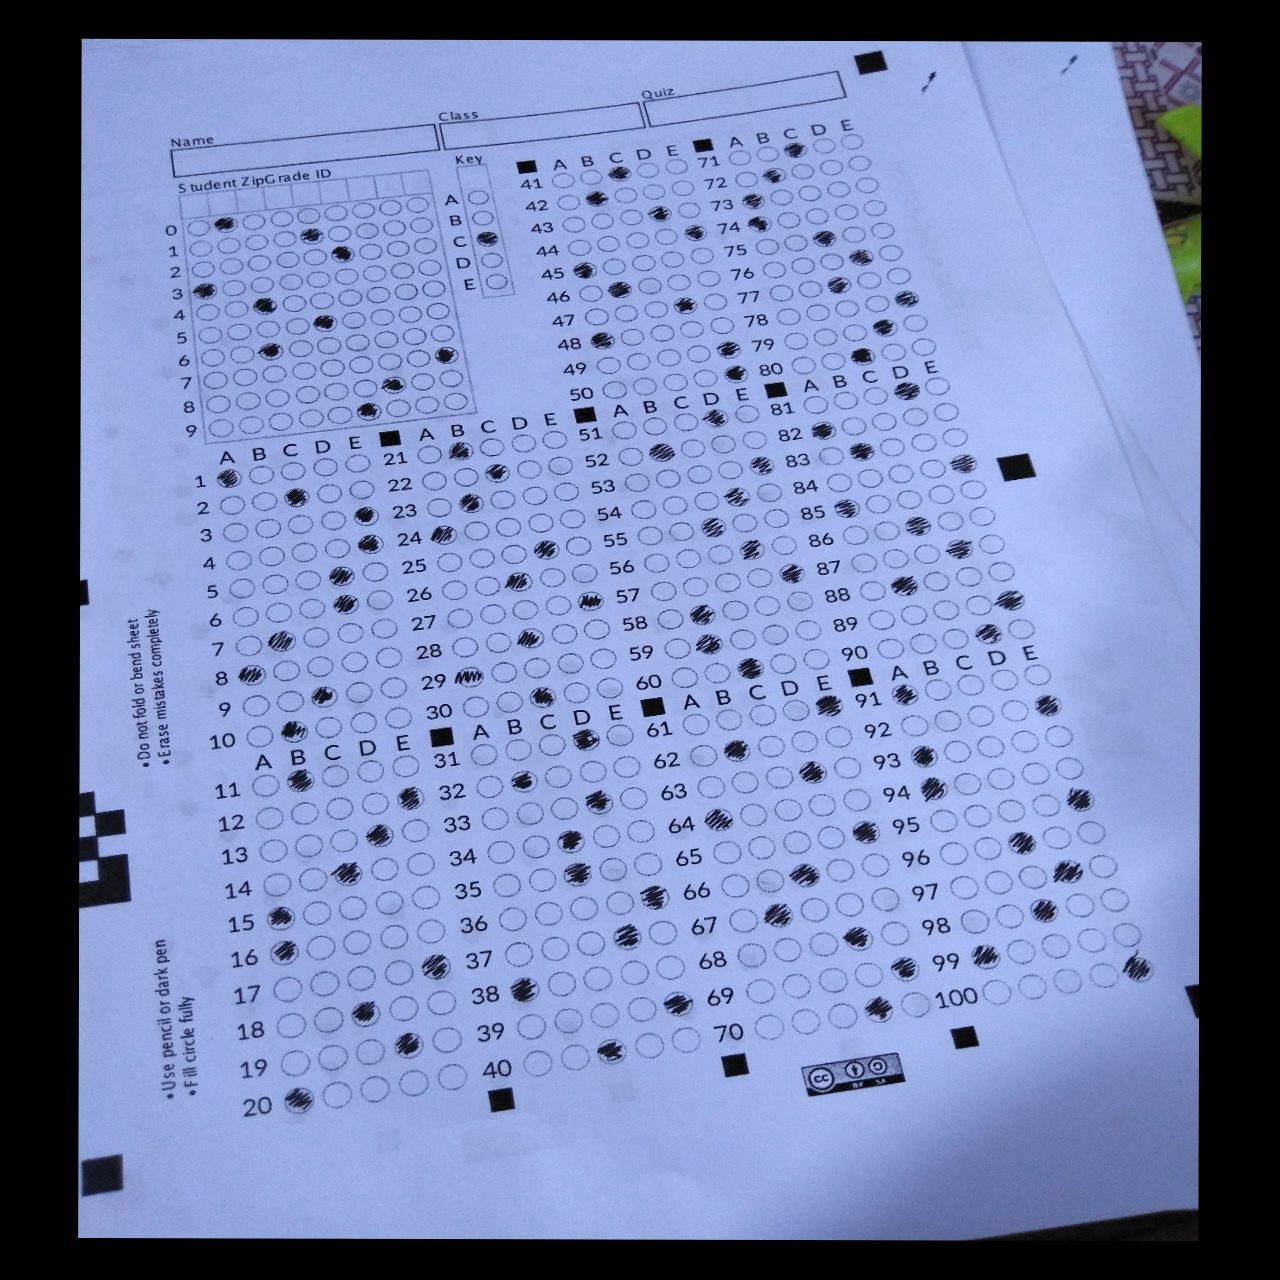not-c: (1073, 926, 1111, 956), (896, 990, 934, 1020), (1095, 884, 1133, 913), (1005, 937, 1043, 966), (745, 1012, 784, 1041), (1111, 919, 1148, 949), (976, 978, 1013, 1008), (523, 866, 560, 896), (427, 1024, 464, 1054), (270, 974, 307, 1003), (812, 965, 850, 994), (851, 958, 888, 987), (1083, 961, 1121, 990), (1048, 967, 1085, 996), (1012, 972, 1049, 1001), (785, 1008, 823, 1037), (741, 976, 779, 1005), (542, 764, 578, 794), (501, 939, 537, 968), (395, 1069, 431, 1098), (300, 899, 336, 928), (958, 907, 994, 937), (1035, 932, 1071, 961), (742, 832, 778, 862), (434, 1063, 471, 1091), (380, 958, 417, 986), (629, 1030, 667, 1058), (625, 995, 662, 1023), (338, 930, 375, 958), (731, 942, 769, 971), (776, 971, 813, 999), (822, 856, 859, 884), (495, 906, 531, 934), (823, 1002, 859, 1030), (409, 883, 445, 911), (624, 816, 660, 844), (546, 794, 583, 822), (566, 894, 602, 922), (532, 899, 568, 927), (544, 969, 580, 998), (312, 1005, 348, 1033), (275, 1049, 312, 1077), (320, 1081, 356, 1109), (382, 994, 418, 1022), (370, 888, 407, 917), (424, 989, 461, 1017), (647, 919, 683, 947), (668, 1024, 704, 1053), (586, 1001, 622, 1029), (302, 934, 339, 962), (1063, 892, 1099, 920), (735, 799, 771, 828), (770, 795, 806, 823), (797, 894, 833, 922), (879, 919, 915, 947), (857, 850, 893, 878), (1020, 661, 1056, 689), (550, 1007, 587, 1034), (358, 1076, 395, 1103), (1073, 821, 1110, 847), (992, 903, 1029, 930), (930, 839, 967, 866), (945, 874, 982, 901), (595, 855, 631, 883), (519, 833, 554, 862), (520, 1048, 556, 1076), (376, 924, 411, 952), (615, 958, 651, 986), (813, 824, 849, 852), (805, 789, 840, 817), (631, 850, 667, 877), (588, 823, 625, 850), (579, 965, 615, 992), (574, 930, 611, 956), (556, 1044, 592, 1071), (537, 937, 573, 964), (305, 969, 341, 996), (345, 964, 381, 990), (273, 1010, 309, 1037), (353, 1039, 389, 1065), (655, 955, 692, 982), (334, 896, 370, 922), (831, 891, 867, 918), (869, 885, 905, 912), (724, 906, 761, 933), (990, 797, 1027, 824), (981, 869, 1017, 896), (926, 808, 962, 835), (1039, 824, 1076, 850), (706, 840, 743, 866), (1085, 853, 1123, 879), (1014, 865, 1051, 891), (967, 835, 1005, 860), (749, 869, 787, 894), (617, 785, 652, 812), (515, 1012, 550, 1039), (316, 1044, 352, 1071), (411, 919, 447, 946), (806, 930, 842, 956), (778, 828, 813, 855), (839, 785, 874, 812), (769, 937, 804, 964), (716, 873, 753, 899), (1029, 790, 1065, 816), (961, 804, 998, 830), (733, 942, 769, 968), (602, 888, 636, 915), (702, 658, 736, 685), (287, 799, 322, 825), (999, 697, 1032, 724), (781, 697, 813, 724), (681, 576, 714, 602), (610, 754, 644, 779), (474, 772, 508, 798), (788, 729, 822, 755), (794, 618, 828, 644), (651, 606, 685, 632), (658, 636, 692, 662), (757, 622, 791, 648), (897, 601, 931, 627), (874, 636, 908, 662), (753, 478, 787, 504), (367, 857, 402, 881), (400, 818, 435, 843), (606, 724, 641, 749), (755, 734, 788, 760), (940, 738, 973, 764), (973, 731, 1006, 757), (1019, 760, 1051, 785), (1008, 728, 1041, 754), (988, 667, 1021, 693), (679, 712, 712, 737), (687, 742, 720, 768), (695, 774, 728, 799), (783, 590, 816, 615), (802, 645, 835, 670), (727, 626, 760, 652), (908, 631, 941, 656), (769, 652, 802, 678), (762, 506, 795, 532), (256, 838, 290, 863), (326, 829, 360, 853), (515, 801, 549, 825), (537, 733, 571, 757), (485, 839, 519, 864), (479, 808, 513, 832), (823, 724, 857, 749), (831, 755, 865, 779), (983, 763, 1017, 788), (964, 701, 998, 726), (1042, 723, 1076, 748), (1053, 755, 1087, 779), (726, 770, 760, 795), (679, 576, 713, 600), (938, 626, 972, 651), (318, 764, 353, 788), (468, 743, 503, 767), (261, 873, 297, 897), (254, 806, 290, 830), (576, 761, 611, 784), (501, 737, 536, 761), (956, 672, 988, 697), (669, 666, 701, 692), (761, 765, 794, 790), (951, 771, 983, 796), (932, 708, 965, 733), (922, 678, 955, 702), (1006, 615, 1039, 640), (961, 594, 994, 619), (927, 598, 960, 622), (865, 605, 898, 629), (768, 533, 801, 558), (974, 532, 1007, 557), (983, 559, 1016, 584), (640, 550, 673, 574), (710, 568, 743, 593), (689, 486, 722, 511), (293, 833, 327, 857), (406, 851, 440, 874), (324, 796, 358, 819), (358, 790, 392, 813), (542, 765, 576, 789), (491, 872, 525, 896), (747, 704, 781, 728), (712, 708, 745, 731), (297, 869, 332, 891), (899, 714, 931, 738), (647, 578, 679, 602), (720, 598, 751, 622), (587, 646, 620, 669), (560, 680, 593, 703), (581, 617, 614, 640), (511, 598, 544, 621), (488, 660, 520, 683), (482, 632, 515, 655), (477, 602, 510, 626), (343, 681, 376, 704), (244, 726, 277, 749), (663, 519, 696, 543), (652, 467, 685, 490), (682, 463, 715, 486), (727, 511, 760, 535), (751, 594, 784, 618), (486, 489, 520, 511), (365, 588, 399, 611), (552, 481, 584, 504), (526, 511, 558, 535), (497, 543, 529, 566), (520, 484, 552, 508), (392, 754, 423, 777), (240, 693, 272, 716), (227, 606, 259, 629), (966, 505, 998, 529), (658, 492, 689, 516), (704, 542, 736, 565), (744, 566, 776, 590), (536, 566, 568, 588), (568, 561, 601, 584), (563, 535, 595, 557), (493, 516, 526, 538), (553, 652, 586, 674), (522, 658, 554, 680), (348, 712, 381, 734), (338, 649, 370, 672), (595, 676, 628, 699), (354, 760, 387, 782), (313, 716, 346, 738), (300, 626, 333, 648), (297, 597, 329, 619), (271, 659, 304, 681), (264, 601, 297, 624), (715, 458, 745, 482), (459, 696, 491, 719), (444, 607, 476, 629), (492, 689, 524, 712), (334, 621, 366, 644), (374, 646, 406, 668), (368, 618, 400, 640), (251, 774, 282, 796), (233, 635, 265, 658), (556, 508, 588, 529), (471, 576, 504, 597), (542, 595, 574, 617), (547, 622, 580, 644), (379, 676, 411, 697), (304, 656, 336, 678), (509, 433, 539, 455), (477, 437, 508, 459), (362, 560, 393, 583), (452, 634, 483, 656), (382, 707, 413, 729), (850, 552, 880, 574), (840, 524, 871, 546), (919, 457, 949, 479), (872, 519, 903, 542), (871, 410, 901, 433), (931, 401, 961, 423), (733, 403, 763, 425), (611, 418, 641, 441), (467, 547, 498, 568), (273, 690, 305, 712), (674, 546, 702, 570), (441, 579, 470, 601), (614, 445, 644, 468), (886, 462, 915, 484), (856, 468, 885, 490), (859, 579, 888, 601), (818, 444, 847, 467), (629, 498, 659, 520), (896, 488, 925, 510), (927, 483, 956, 505), (880, 547, 910, 570), (922, 570, 952, 592), (954, 563, 983, 585), (709, 433, 738, 455), (900, 406, 930, 428), (832, 389, 862, 411), (738, 429, 768, 451), (876, 436, 905, 458), (802, 394, 831, 416), (641, 417, 670, 440), (425, 497, 456, 518), (418, 470, 449, 491), (864, 492, 894, 513), (959, 479, 989, 501), (636, 525, 665, 547), (670, 411, 699, 434), (218, 493, 247, 515), (415, 443, 444, 464), (546, 456, 576, 477), (515, 459, 544, 481), (452, 467, 482, 488), (542, 429, 571, 450), (434, 551, 463, 572), (824, 472, 853, 493), (622, 472, 652, 493), (935, 511, 965, 532), (913, 542, 942, 563), (860, 384, 890, 406), (908, 431, 938, 452), (839, 415, 869, 436), (676, 438, 706, 459), (463, 520, 493, 540), (311, 457, 339, 478), (942, 425, 971, 447), (922, 375, 951, 396), (315, 484, 343, 504), (343, 452, 372, 472), (295, 570, 324, 590), (290, 542, 318, 561), (285, 515, 313, 535), (261, 573, 290, 593), (257, 546, 285, 566), (254, 518, 282, 538), (251, 492, 279, 512), (225, 550, 253, 570), (349, 481, 377, 501), (639, 181, 667, 200), (622, 350, 651, 370), (659, 248, 687, 268), (876, 243, 904, 263), (765, 188, 794, 207), (324, 537, 352, 557), (319, 510, 347, 530), (267, 410, 293, 431), (264, 388, 291, 408), (295, 207, 322, 227), (404, 195, 431, 215), (342, 309, 369, 329), (358, 243, 384, 263), (361, 263, 388, 282), (395, 304, 422, 324), (413, 236, 440, 256), (304, 270, 331, 290), (216, 234, 243, 254), (195, 304, 222, 324), (260, 365, 287, 384), (248, 275, 275, 295), (229, 579, 256, 599), (636, 275, 663, 295), (559, 215, 586, 234), (782, 331, 809, 350), (832, 202, 859, 222), (853, 175, 880, 195), (183, 219, 211, 238), (267, 211, 295, 230), (377, 200, 406, 219), (483, 272, 511, 291), (348, 354, 376, 373), (404, 350, 433, 369), (308, 291, 336, 309), (301, 248, 329, 267), (273, 251, 301, 270), (245, 254, 273, 273), (234, 392, 263, 410), (326, 406, 354, 424), (286, 339, 314, 358), (549, 171, 577, 190), (577, 169, 605, 188), (629, 256, 658, 274), (554, 192, 583, 211), (908, 338, 937, 356), (815, 157, 843, 176), (291, 362, 319, 381), (663, 273, 692, 292), (442, 392, 468, 411), (352, 377, 377, 397), (294, 384, 320, 404), (633, 161, 659, 181), (696, 268, 722, 288), (662, 372, 688, 392), (821, 352, 846, 372), (322, 203, 349, 222), (350, 200, 377, 219), (465, 188, 492, 206), (413, 396, 440, 415), (343, 332, 370, 350), (338, 290, 365, 308), (325, 224, 352, 243), (377, 353, 404, 372), (372, 331, 399, 349), (369, 308, 396, 327), (365, 285, 392, 304), (401, 327, 428, 346), (392, 282, 418, 301), (390, 261, 417, 280), (384, 240, 411, 259), (429, 324, 456, 342), (425, 301, 452, 320), (218, 258, 245, 277), (207, 418, 234, 437), (204, 394, 231, 413), (202, 372, 229, 390), (199, 348, 226, 367), (197, 327, 224, 346), (189, 260, 216, 279), (256, 319, 282, 338), (236, 415, 263, 434), (229, 345, 256, 363), (225, 322, 252, 341), (322, 381, 349, 400), (280, 462, 307, 481), (222, 523, 248, 542), (708, 316, 735, 335), (675, 200, 702, 219), (668, 177, 695, 196), (614, 304, 641, 322), (648, 324, 675, 342), (624, 231, 651, 250), (619, 207, 646, 226), (613, 186, 640, 205), (685, 342, 712, 361), (692, 368, 719, 387), (654, 227, 681, 246), (839, 134, 866, 152), (775, 308, 802, 327), (768, 284, 795, 302), (754, 237, 781, 256), (726, 148, 753, 166), (602, 381, 629, 400), (595, 358, 622, 376), (583, 307, 610, 326), (577, 284, 604, 302), (566, 239, 593, 258), (877, 342, 904, 361), (819, 251, 846, 270), (795, 183, 822, 202), (856, 271, 883, 290), (811, 138, 838, 157), (903, 313, 930, 332), (884, 266, 911, 285), (869, 222, 896, 240), (862, 198, 888, 217), (845, 154, 872, 172), (798, 279, 825, 298), (790, 256, 817, 274), (775, 210, 802, 229), (842, 324, 869, 342), (355, 223, 382, 241), (239, 213, 267, 231), (420, 280, 448, 298), (247, 467, 275, 484), (687, 246, 715, 264), (602, 258, 631, 275), (789, 355, 817, 373), (833, 299, 862, 316), (469, 209, 495, 227), (410, 216, 436, 234), (410, 372, 436, 390), (332, 267, 358, 286), (416, 259, 442, 278), (222, 279, 247, 298), (273, 230, 299, 248), (243, 234, 268, 253), (232, 367, 258, 386), (319, 359, 345, 377), (316, 335, 342, 354), (284, 318, 309, 336), (282, 294, 308, 313), (620, 327, 646, 346), (595, 234, 621, 253), (644, 301, 669, 320), (761, 261, 787, 280), (735, 169, 761, 188), (802, 206, 828, 225), (864, 294, 890, 313), (805, 302, 831, 321), (783, 233, 809, 252), (478, 252, 505, 270), (381, 219, 408, 237), (384, 399, 411, 416), (222, 299, 248, 316), (189, 240, 216, 258), (297, 409, 324, 427), (275, 273, 302, 291), (702, 293, 729, 311), (662, 158, 689, 176), (588, 213, 615, 231), (656, 349, 683, 367), (678, 320, 704, 338), (790, 163, 817, 181), (840, 225, 867, 243), (825, 181, 852, 198), (812, 327, 839, 345), (754, 147, 781, 164), (438, 369, 464, 387), (632, 377, 658, 395)
taken-c: (1003, 828, 1040, 858), (842, 924, 879, 953), (346, 999, 382, 1028), (1121, 955, 1158, 983), (787, 862, 824, 890), (847, 819, 885, 847), (1026, 898, 1063, 926), (966, 942, 1003, 971), (903, 742, 940, 770), (885, 681, 922, 709), (813, 692, 851, 720), (282, 1085, 318, 1115), (392, 1032, 428, 1060), (1050, 858, 1087, 886), (1032, 692, 1068, 720), (914, 774, 951, 802), (795, 758, 831, 787), (1064, 787, 1101, 815), (394, 787, 431, 813), (660, 992, 697, 1019), (418, 953, 456, 980), (594, 1037, 629, 1065), (860, 996, 896, 1024), (888, 955, 924, 983), (761, 903, 797, 930), (636, 884, 673, 911), (561, 862, 598, 888), (971, 622, 1007, 649), (265, 939, 302, 965), (263, 905, 300, 931), (506, 976, 543, 1002), (610, 924, 646, 949), (362, 823, 399, 849), (331, 862, 367, 887), (554, 828, 588, 855), (888, 573, 922, 599), (845, 438, 878, 464), (583, 790, 617, 815), (994, 588, 1028, 613), (944, 536, 975, 561), (452, 666, 486, 689), (948, 451, 982, 475), (515, 626, 546, 651), (903, 513, 934, 538), (279, 720, 312, 743), (234, 663, 267, 687), (284, 769, 316, 792), (571, 729, 602, 753), (527, 685, 559, 708), (309, 685, 341, 708), (831, 497, 863, 520), (508, 771, 540, 794), (892, 380, 922, 403), (847, 345, 878, 368), (703, 808, 735, 830), (735, 656, 767, 679), (775, 561, 806, 584), (869, 316, 900, 339), (532, 538, 561, 561), (893, 287, 922, 311), (267, 629, 298, 652), (331, 594, 361, 617), (350, 505, 381, 527), (576, 590, 606, 612), (699, 516, 729, 538), (722, 740, 753, 762), (456, 492, 485, 515), (328, 565, 358, 587), (445, 440, 476, 461), (215, 467, 245, 488), (428, 524, 458, 545), (693, 633, 723, 654), (687, 604, 717, 625), (809, 420, 837, 442), (723, 486, 753, 508), (282, 486, 312, 508), (505, 571, 535, 592), (737, 539, 767, 560), (760, 165, 789, 186), (811, 229, 840, 250), (743, 215, 774, 234), (737, 191, 768, 211), (846, 247, 874, 268), (825, 273, 853, 294), (355, 401, 384, 421), (483, 463, 512, 483), (647, 442, 676, 462), (723, 365, 753, 384), (715, 339, 744, 359), (672, 297, 701, 316), (433, 345, 461, 365), (251, 297, 279, 316), (358, 535, 386, 554), (700, 409, 729, 428), (783, 139, 809, 161), (211, 215, 238, 234), (471, 229, 498, 248), (588, 332, 617, 350), (583, 189, 611, 207), (748, 456, 776, 475), (607, 280, 634, 299), (645, 204, 672, 223), (571, 260, 598, 279), (606, 164, 633, 183), (381, 375, 408, 394), (311, 313, 338, 332), (191, 282, 218, 301), (297, 226, 324, 245), (682, 223, 709, 241), (257, 342, 282, 361), (331, 246, 358, 264)
